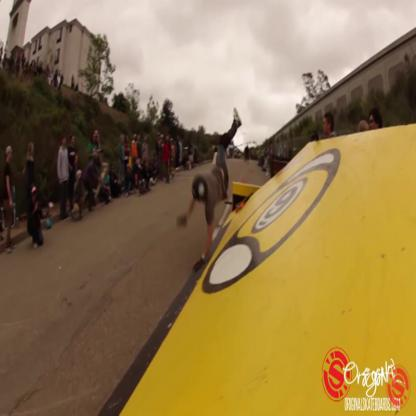Fall_Down: (176, 104, 243, 276)
